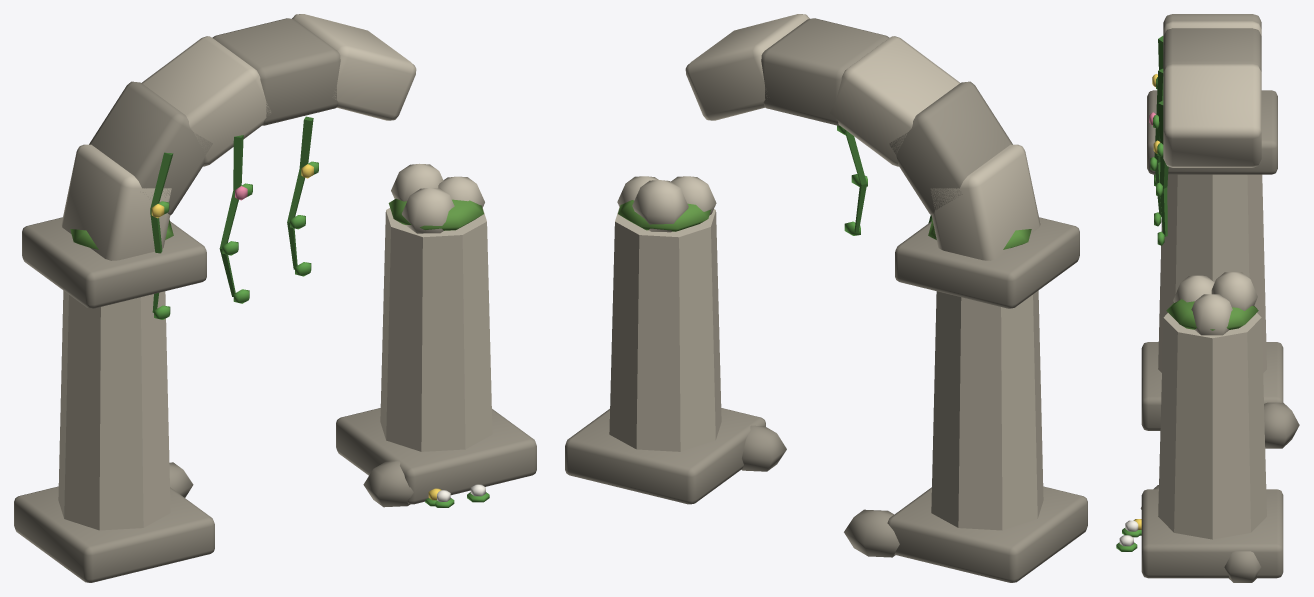
File: RuinArch.fbx
3 renders of one model, left to right at view 1: azimuth 30°, elevation 25°; view 2: azimuth 150°, elevation 25°; view 3: azimuth 270°, elevation 25°, orthographic. The views are drawn at different scales.
Visible parts, largest first — view 1: Frame; view 2: Frame; view 3: Frame.
Part boxes in pixels (x1,y1,x2,y2): Frame: (14, 14, 536, 582); Frame: (565, 14, 1087, 582); Frame: (1116, 14, 1299, 582).
Bounding box in the file's own units: 6.63 × 6.42 × 2.42.
Materials: 1 (1 with a texture image).
